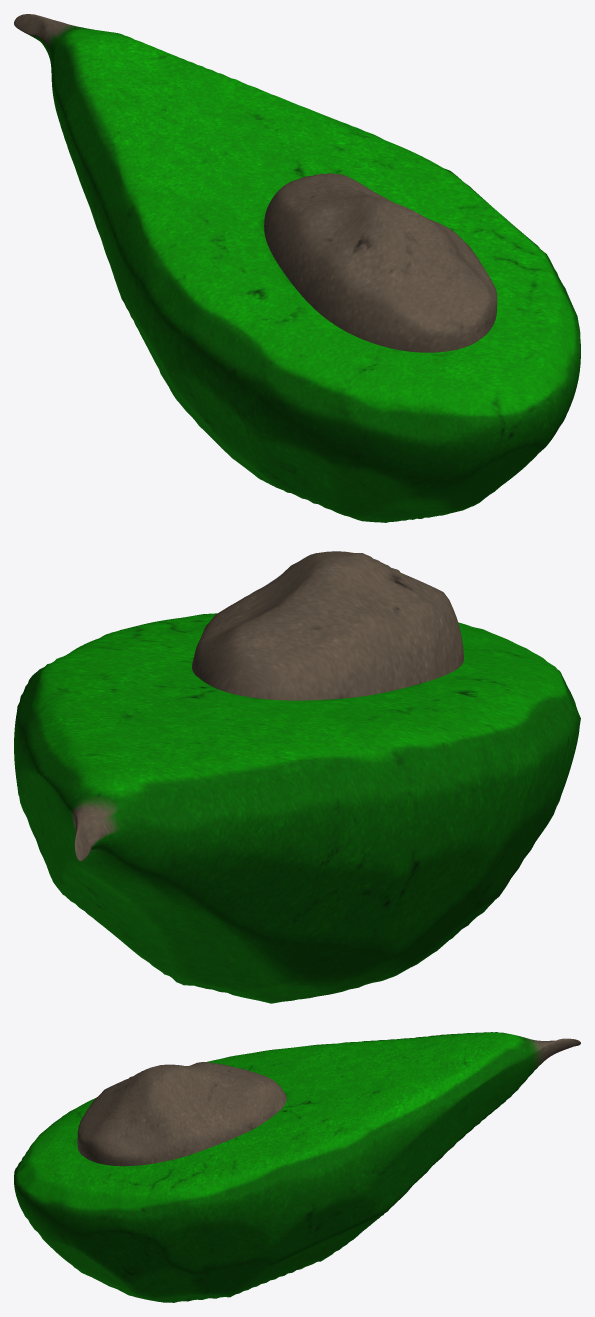
3 views of the same model, one above another, from view 1: azimuth 30°, elevation 25°; view 2: azimuth 150°, elevation 25°; view 3: azimuth 270°, elevation 25° (orthographic). The views are drawn at different scales.
Parts seen in each view (by area): view 1: ZBrush_defualt_group, Group1; view 2: ZBrush_defualt_group, Group1; view 3: ZBrush_defualt_group, Group1.
Part boxes in pixels (bbox=[...]): ZBrush_defualt_group: bbox=[14, 14, 580, 522]; Group1: bbox=[264, 173, 497, 352]; ZBrush_defualt_group: bbox=[14, 613, 580, 1003]; Group1: bbox=[192, 551, 463, 700]; ZBrush_defualt_group: bbox=[14, 1032, 580, 1302]; Group1: bbox=[77, 1062, 286, 1166].
Size of the model in its own units: 4.89 by 4.1 by 9.24.
1 material, 1 textured.
